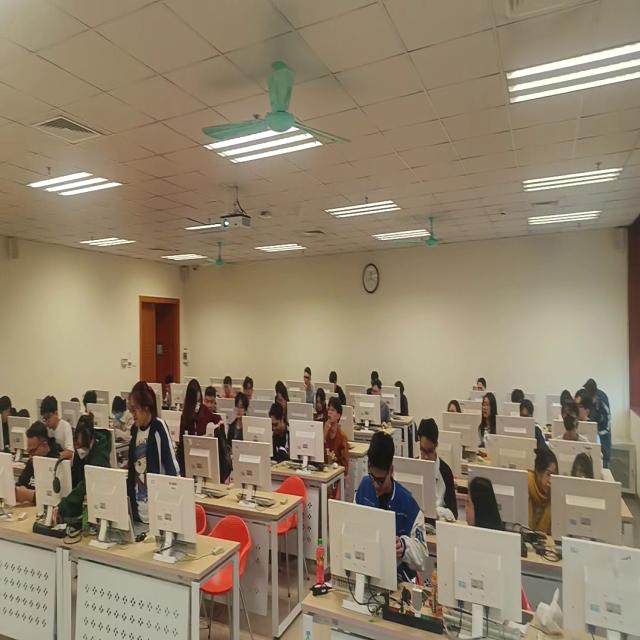raise_head: (325, 398, 350, 474), (552, 398, 592, 445), (479, 392, 500, 447), (229, 392, 251, 441), (205, 387, 218, 413), (244, 376, 255, 400), (473, 378, 488, 392), (448, 401, 463, 414)
stand: (129, 380, 180, 531), (53, 412, 113, 531), (180, 379, 233, 486), (583, 378, 613, 471)
using_computer: (415, 419, 460, 523), (15, 421, 65, 508), (41, 396, 75, 459), (520, 400, 548, 444), (270, 404, 291, 462), (113, 396, 137, 445), (371, 380, 393, 433), (1, 393, 19, 451), (331, 371, 348, 407), (393, 382, 409, 417), (314, 389, 329, 423), (304, 368, 316, 404), (163, 376, 174, 410), (278, 386, 291, 414), (367, 372, 380, 396), (85, 390, 98, 412), (225, 376, 236, 398), (512, 389, 526, 404), (560, 390, 574, 405), (18, 406, 32, 420), (276, 381, 284, 405), (72, 397, 82, 410)
